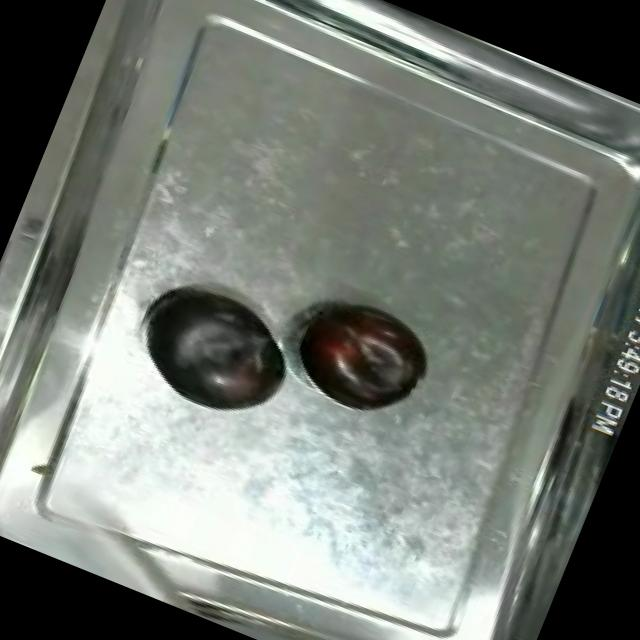Fruit: (119, 263, 308, 435), (278, 278, 444, 428)
